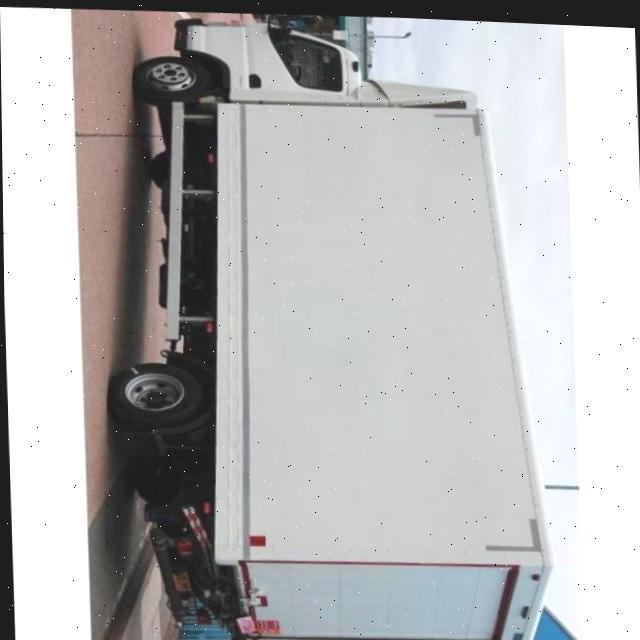truck: (104, 7, 556, 640)
